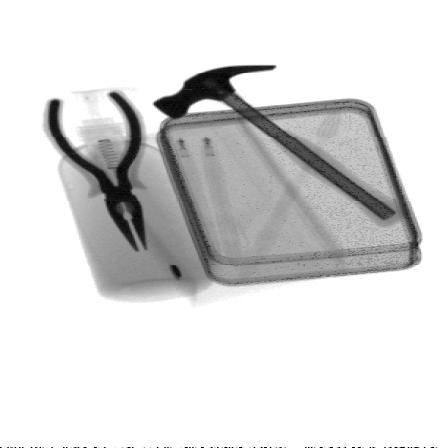Hammer: (151, 64, 407, 230)
Pliers: (41, 89, 150, 253)
